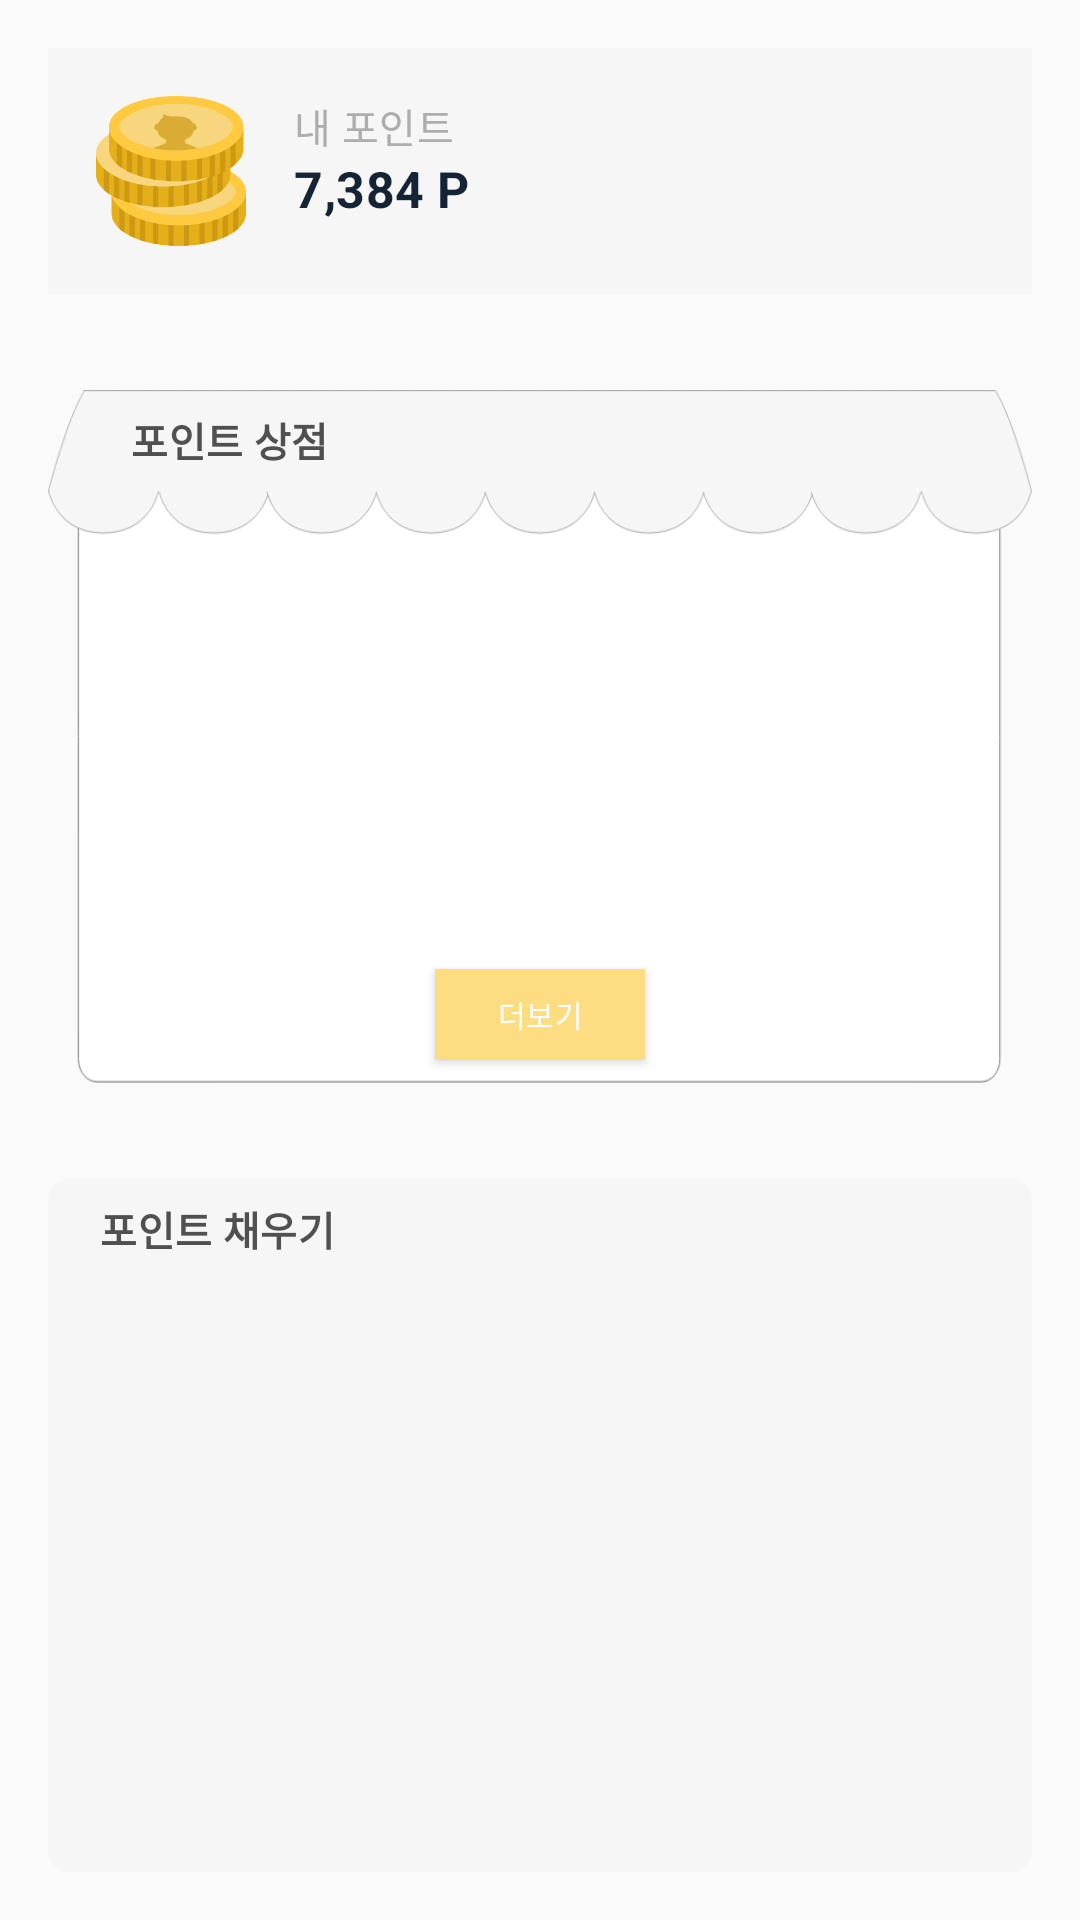

Icons on this 1080*1920 Android screen, each with its box as (x1, y1, x2, y2):
point mypoint: (96, 96, 246, 246)
